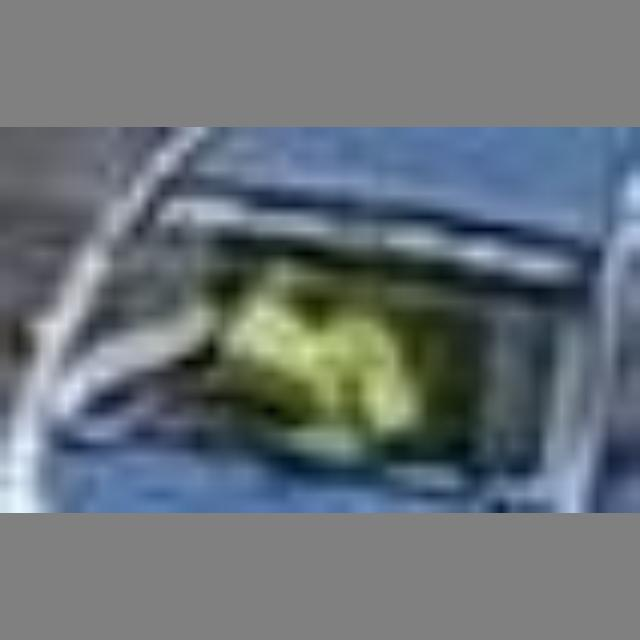tidak-pakai: (205, 260, 423, 441)
